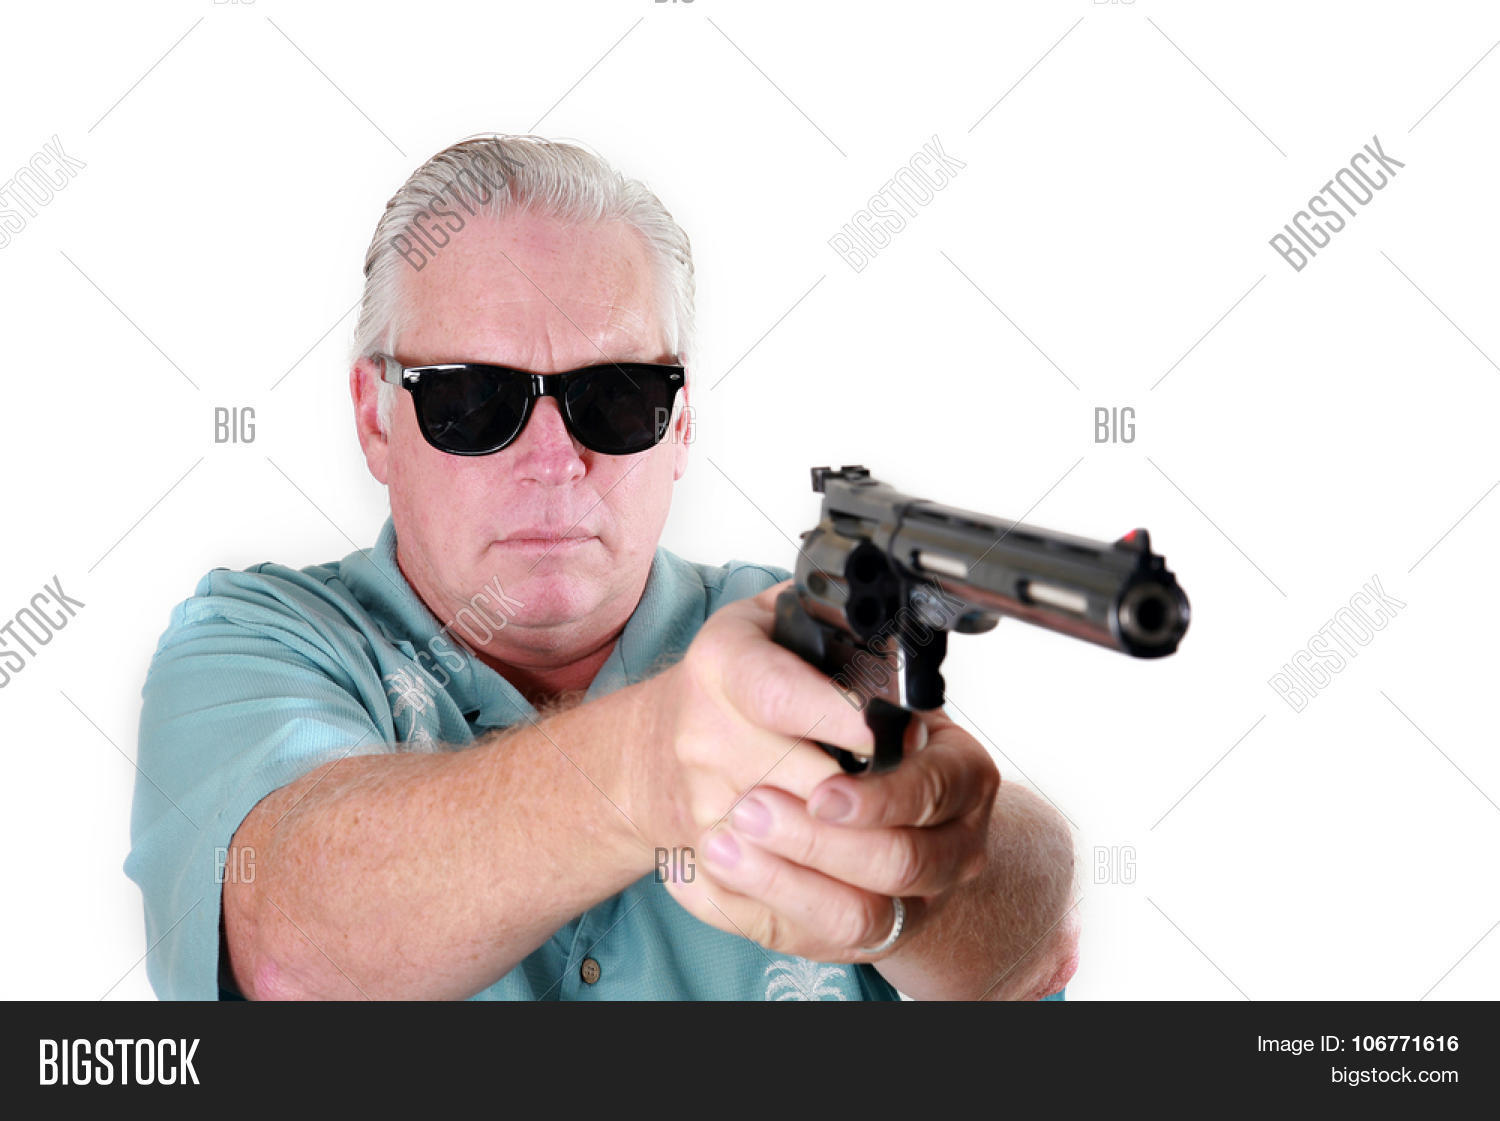Revolver: (697, 410, 1213, 822)
